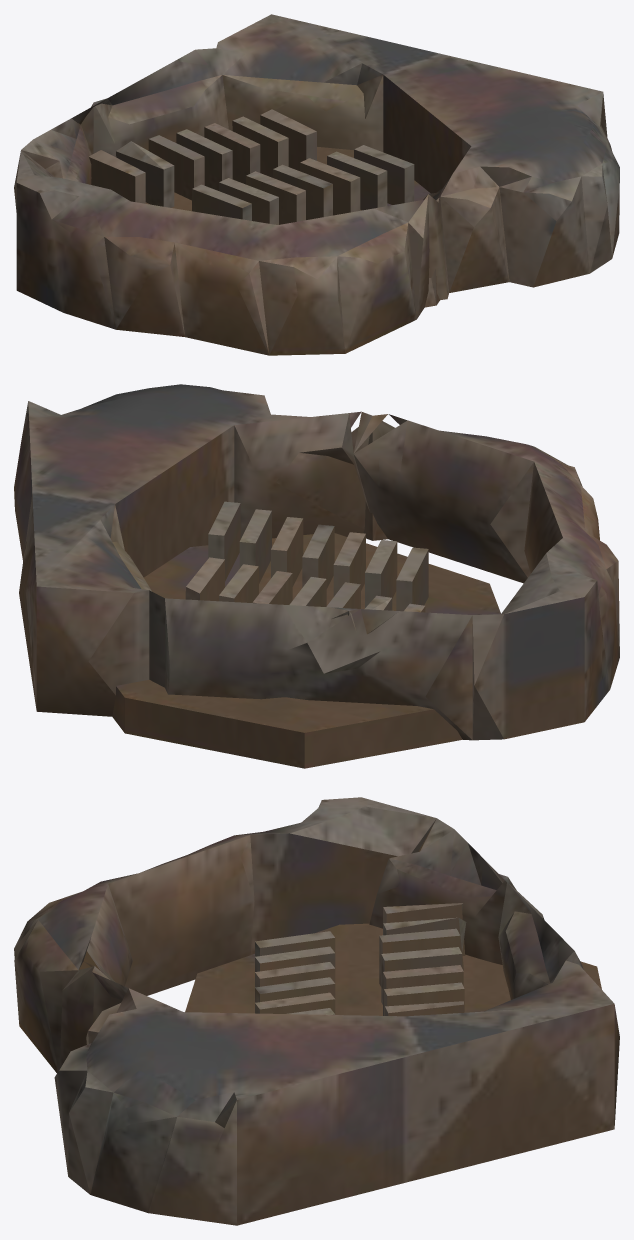
File: crash-site-spaceship-wreck-medium-1.glb
The picture shows the model from 3 angles, top to bottom: view 1: azimuth 30°, elevation 25°; view 2: azimuth 150°, elevation 25°; view 3: azimuth 270°, elevation 25°; orthographic projection. The views are drawn at different scales.
Visible parts, largest first — view 1: body; view 2: body; view 3: body.
Part boxes in pixels (x1,y1,x2,y2): body: (14, 14, 619, 355); body: (14, 384, 619, 768); body: (14, 797, 619, 1225).
Size of the model in its own units: 2.17 by 0.4281 by 1.84.
1 material, 1 textured.
